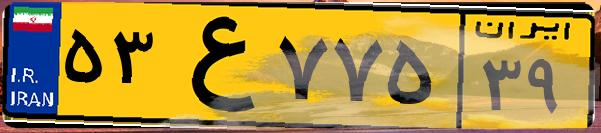3: (475, 38, 525, 113), (110, 28, 158, 98)
5: (385, 28, 445, 110), (57, 26, 110, 100)
7: (270, 28, 330, 110), (330, 28, 385, 110)
9: (525, 38, 570, 115)
ع: (158, 12, 270, 120)
